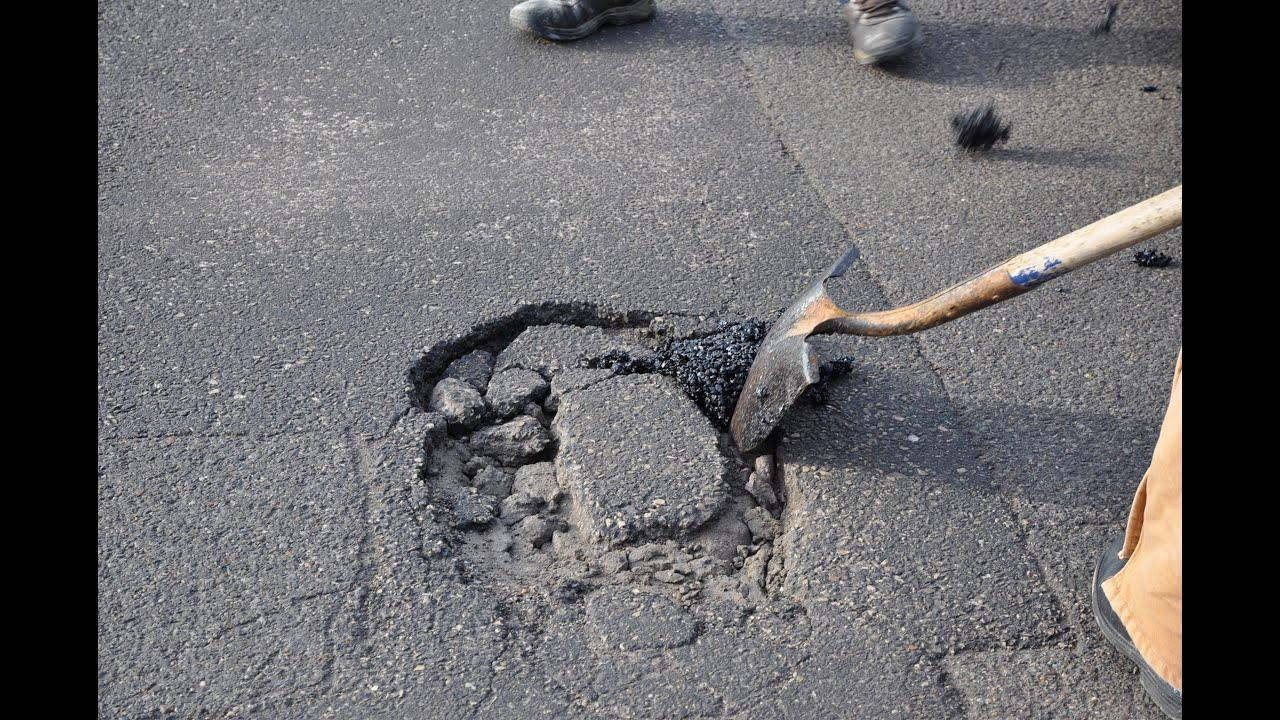pothole: (401, 295, 818, 660)
shoes: (1092, 530, 1181, 720), (509, 0, 657, 46), (842, 0, 927, 64)
spade: (730, 244, 859, 454)
